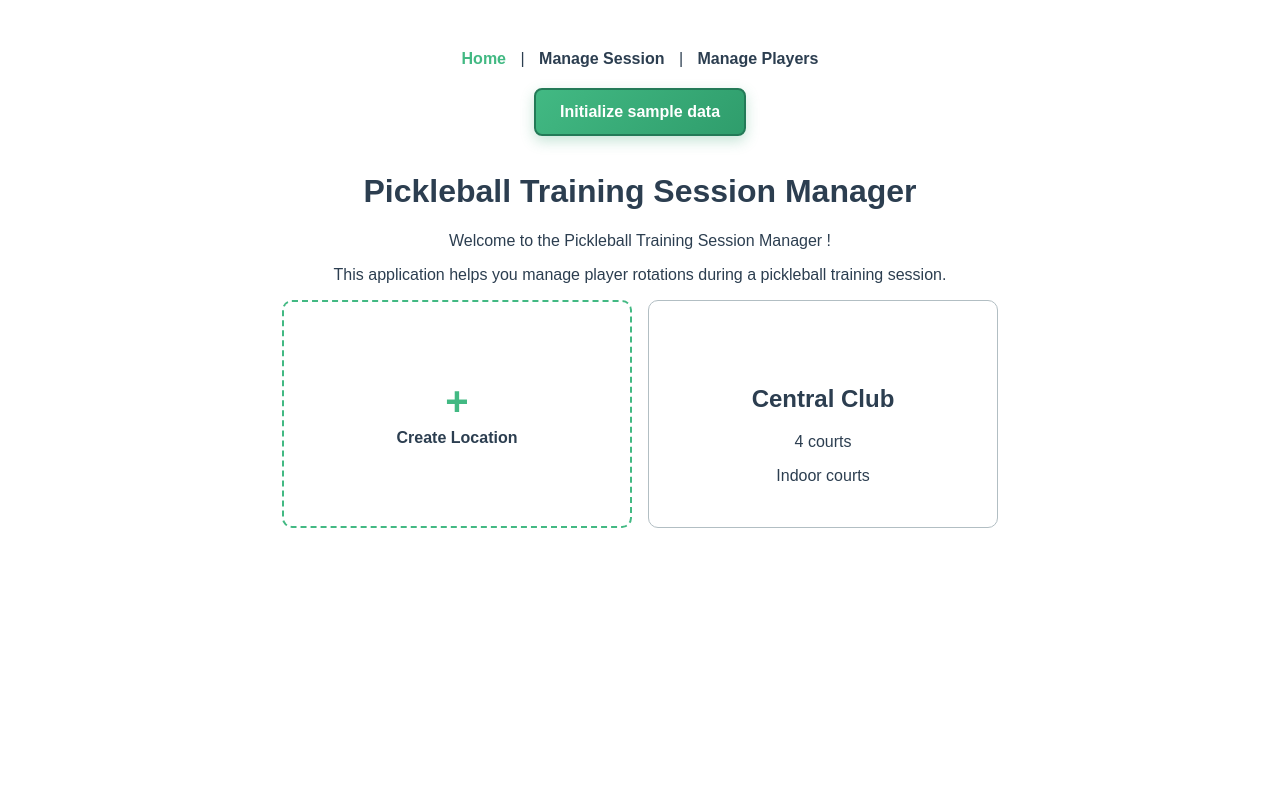
Application routes › confirms and persists the logical deletion of a Location
What coordinates should you click on to do the following:
click the button with class "location-card-select"
I would click on:
 (824, 399)
Its box is [752,385,895,413].
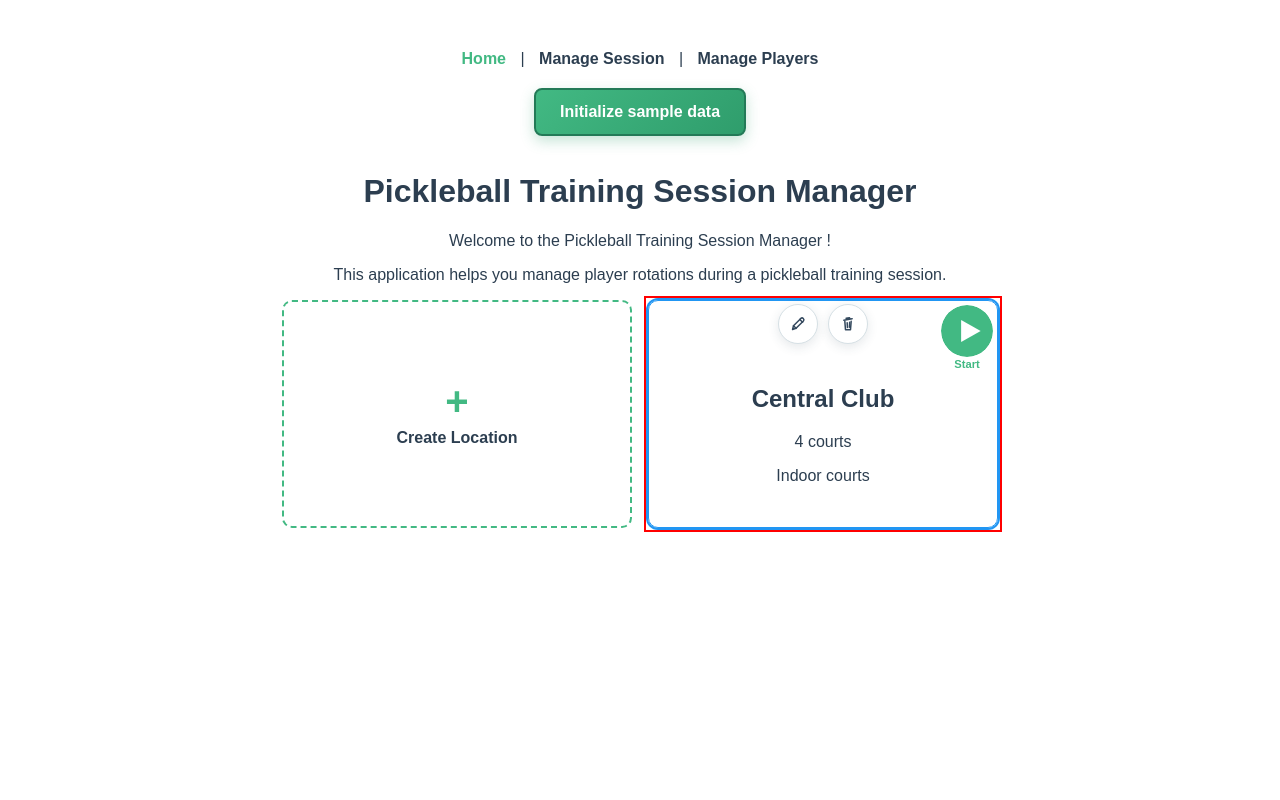
What coordinates should you click on to do the following:
click the button with class "location-card-delete"
I would click on:
 (848, 324)
Its box is [828,304,868,344].
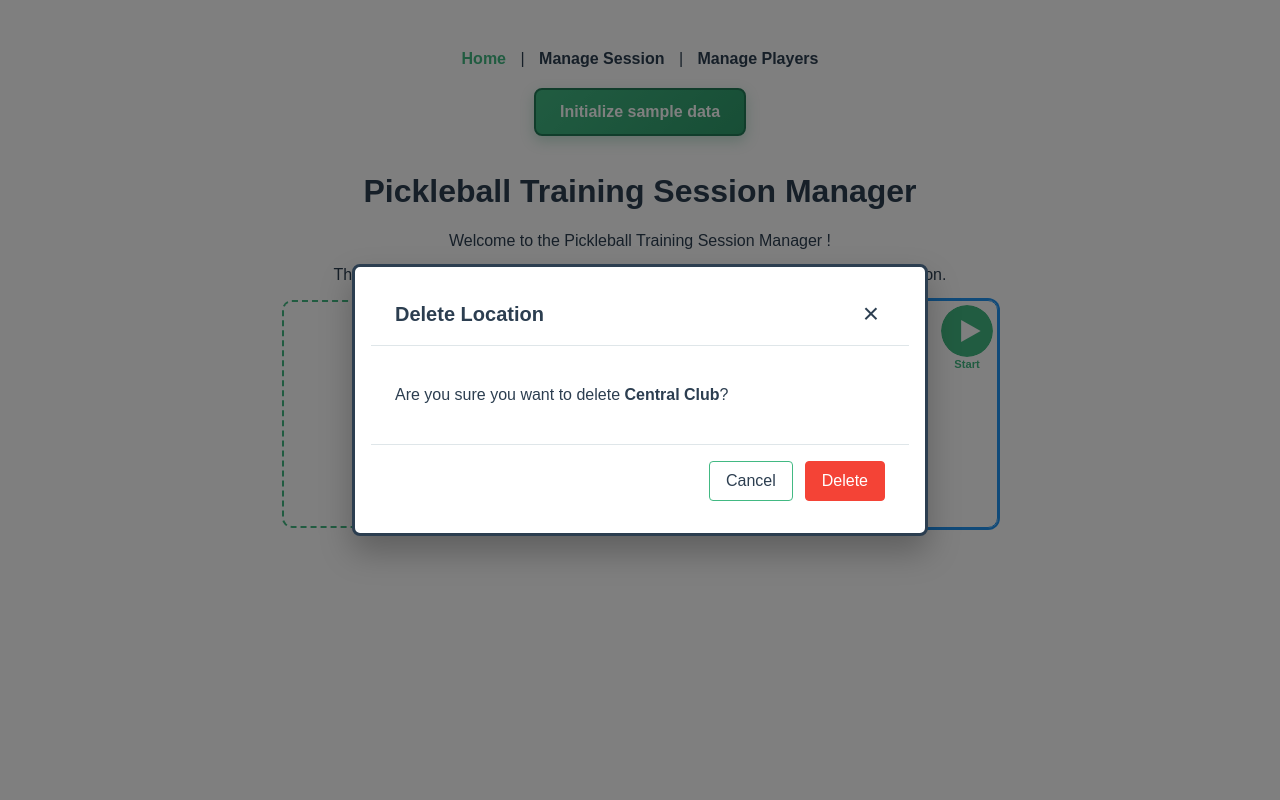
Check: the dialog named "Delete Location" shows "Central Club", box [352,264,928,536]
What coordinates should you click on to do the following:
click the button with class "delete-location-confirm"
I would click on:
 (845, 481)
Its box is [805,461,885,501].
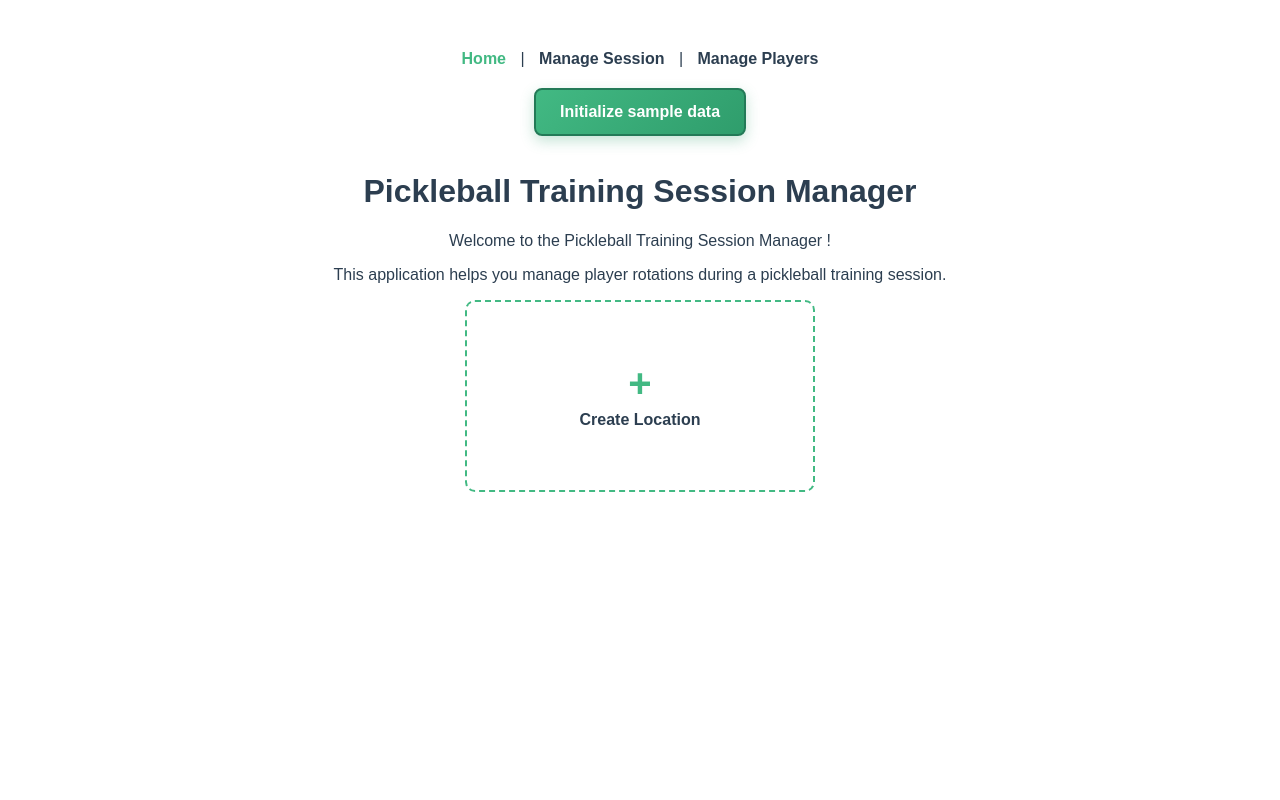
Check: the element with id "location-card-location-1" is gone
